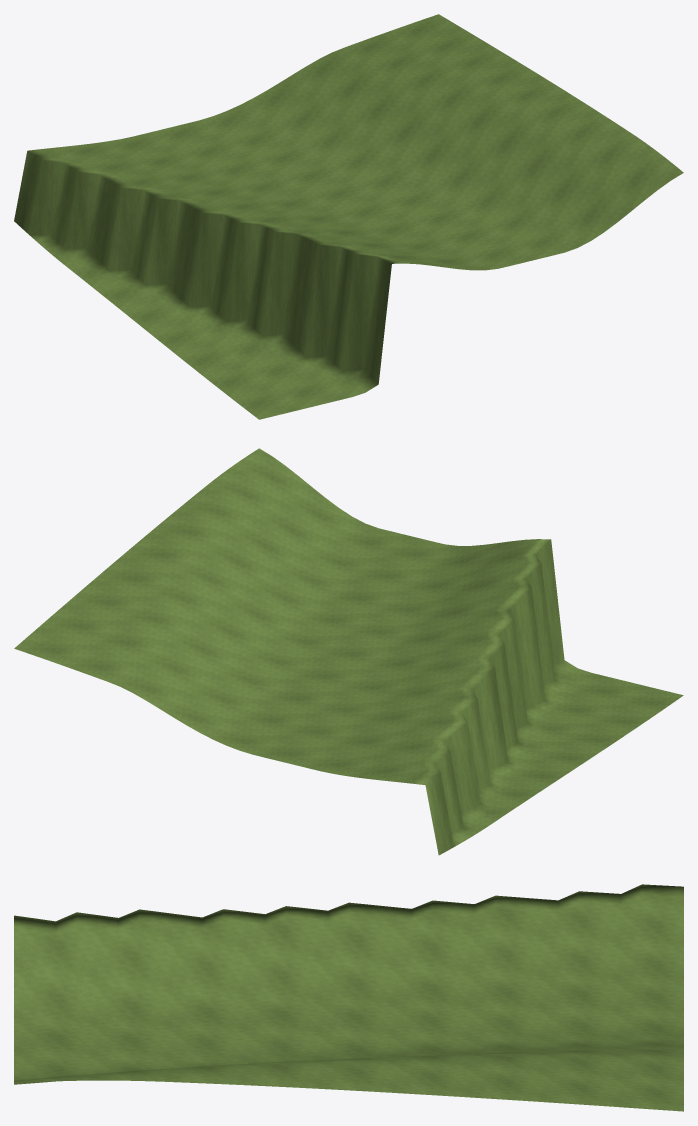
File: terrain_coastal_chunk_64m.glb
The picture shows the model from 3 angles, top to bottom: view 1: azimuth 30°, elevation 25°; view 2: azimuth 150°, elevation 25°; view 3: azimuth 270°, elevation 25°; orthographic projection. The views are drawn at different scales.
Visible parts, largest first — view 1: terrain; view 2: terrain; view 3: terrain.
Part boxes in pixels (x1,y1,x2,y2): terrain: (14,14,683,419); terrain: (14,448,683,855); terrain: (14,884,683,1111).
Size of the model in its own units: 64 by 20.91 by 64.
1 material, 1 textured.
